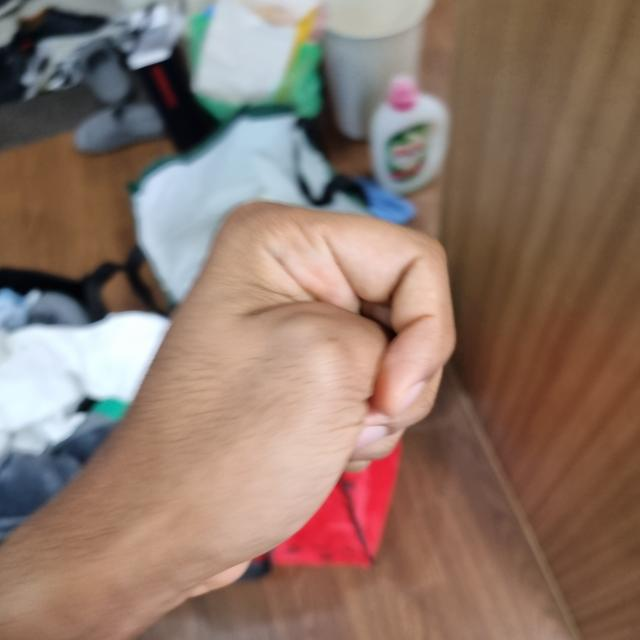Rock: (89, 198, 455, 600)
